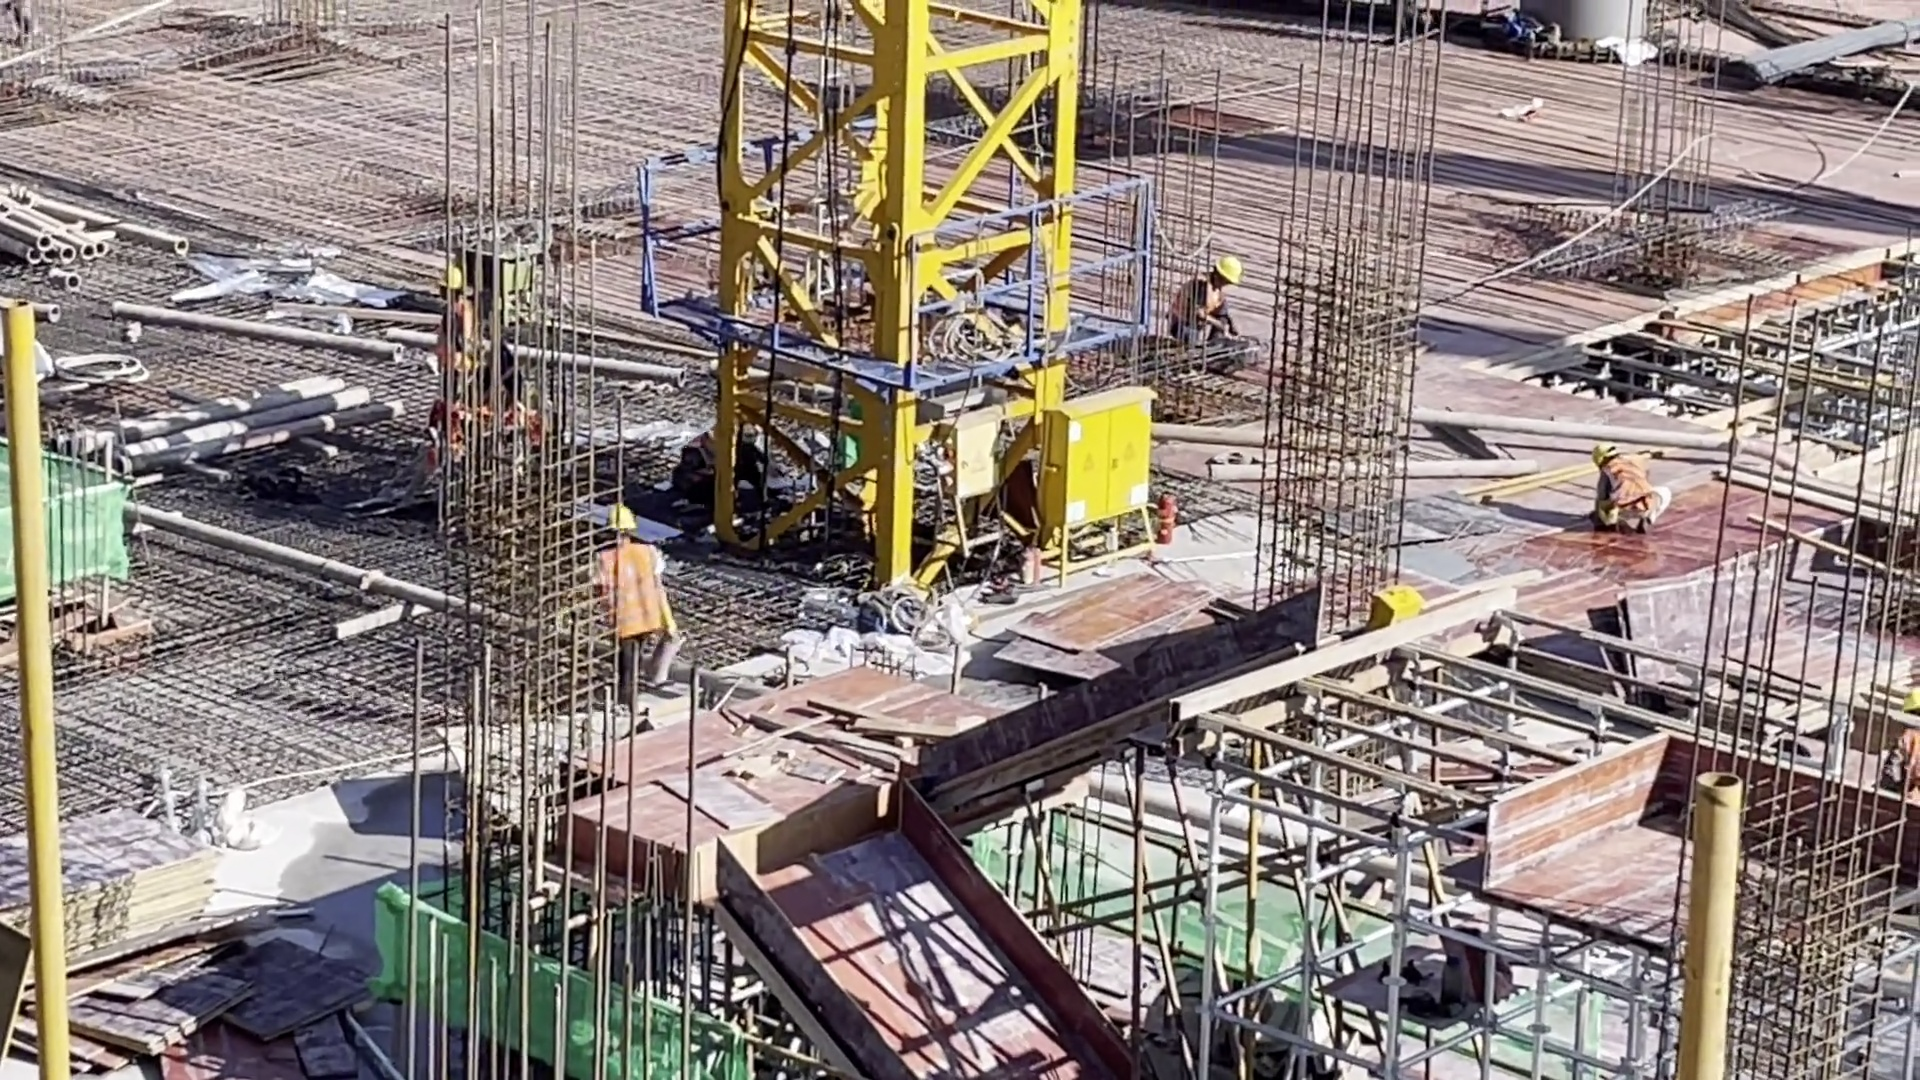board: (60, 935, 374, 1080), (1, 803, 237, 968)
ebox: (1040, 380, 1162, 582), (960, 399, 1024, 566), (1364, 588, 1428, 636)
helmet: (1210, 255, 1251, 295), (605, 508, 637, 537)
person: (583, 507, 672, 703), (1165, 252, 1244, 355), (1583, 440, 1669, 529)
rebar: (1725, 1, 1920, 102)
vest: (601, 543, 664, 636), (1607, 459, 1657, 514)
